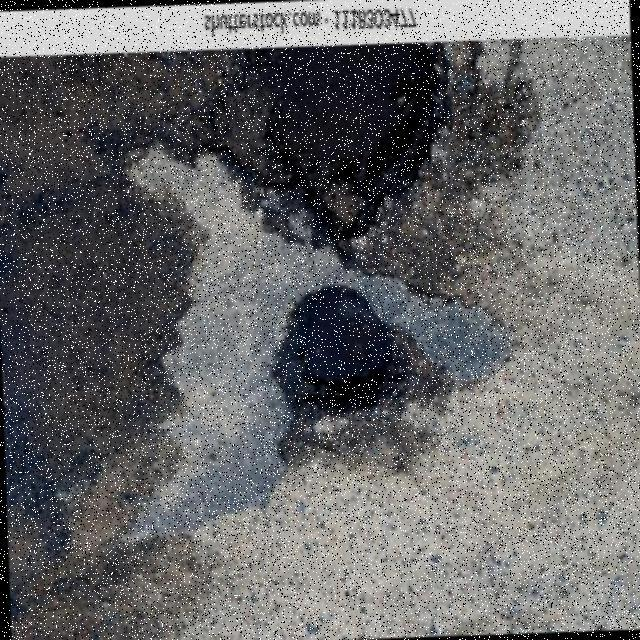Pothole: (211, 46, 442, 238), (276, 283, 411, 419)
